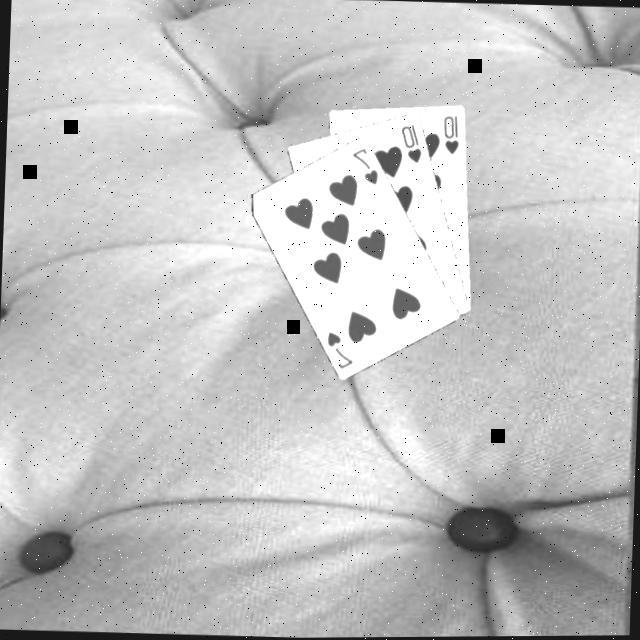10H: (399, 121, 427, 167), (441, 112, 465, 158)
7H: (324, 328, 359, 373), (350, 145, 384, 189)
